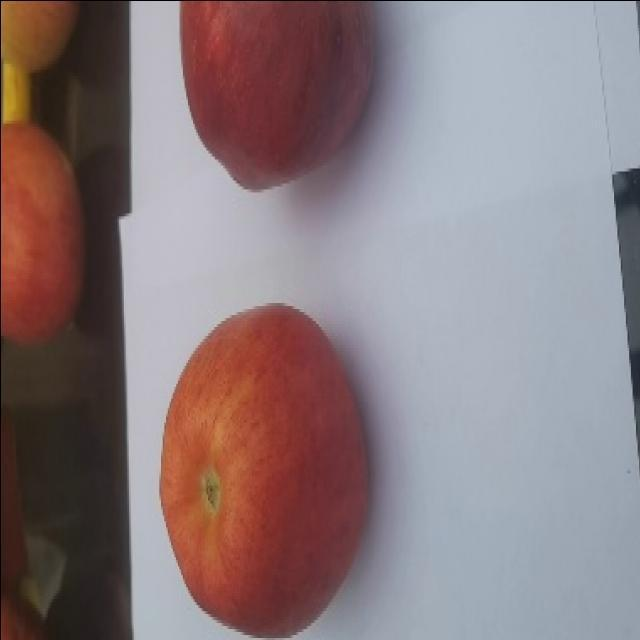Apple: (155, 306, 374, 640), (174, 0, 376, 208), (0, 121, 88, 345), (0, 0, 88, 74)
